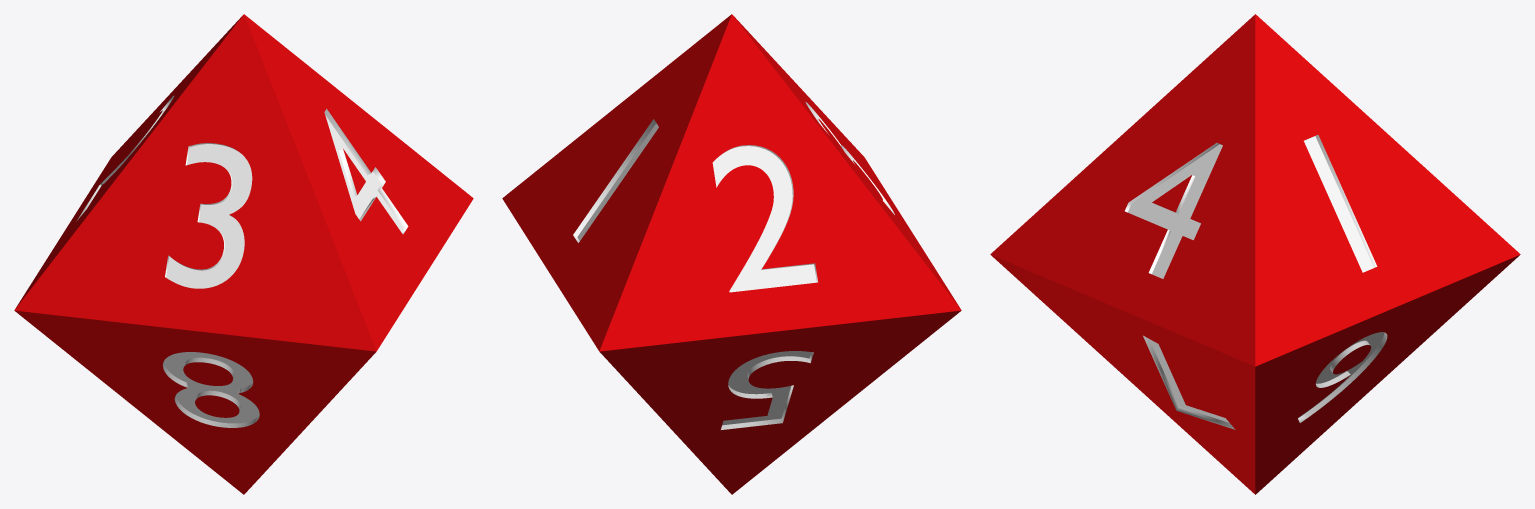
3 views of the same model, side by side, from view 1: azimuth 30°, elevation 25°; view 2: azimuth 150°, elevation 25°; view 3: azimuth 270°, elevation 25° (orthographic).
Visible parts, largest first — view 1: d8.001; view 2: d8.001; view 3: d8.001.
Boxes of the visible parts, x1=… form: d8.001: x1=14, y1=14, x2=473, y2=494; d8.001: x1=502, y1=14, x2=961, y2=494; d8.001: x1=990, y1=14, x2=1520, y2=494.
Bounding box in the file's own units: 2 × 2 × 2.
